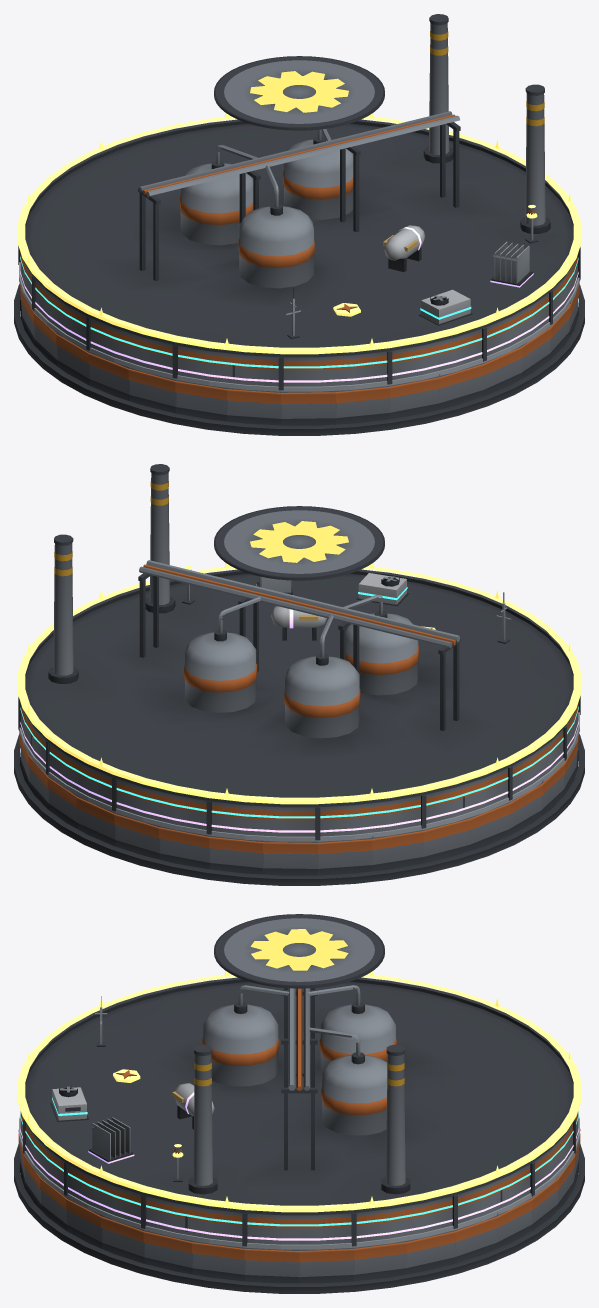
File: polymer_plant_l_far.glb
3 views of the same model, one above another, from view 1: azimuth 30°, elevation 25°; view 2: azimuth 150°, elevation 25°; view 3: azimuth 270°, elevation 25° (orthographic).
Parts seen in each view (by area): view 1: Roof, Base, L5, L4, L2, L3; view 2: Roof, Base, L5, L2, L4, L3; view 3: Roof, Base, L5, L4, L2, L3.
Boxes of the visible parts, x1,y1,x2,y2 form: Roof: [18, 14, 580, 390]; Base: [14, 282, 584, 435]; L5: [17, 113, 581, 354]; L4: [20, 225, 578, 382]; L2: [19, 262, 579, 391]; L3: [20, 256, 578, 368]; Roof: [18, 464, 580, 840]; Base: [14, 732, 584, 885]; L5: [17, 563, 581, 804]; L2: [19, 592, 579, 841]; L4: [20, 576, 578, 832]; L3: [20, 573, 578, 818]; Roof: [20, 914, 578, 1246]; Base: [14, 1129, 584, 1293]; L5: [17, 971, 581, 1212]; L4: [20, 1083, 578, 1240]; L2: [19, 996, 579, 1249]; L3: [20, 1073, 578, 1226].
Bounding box in the file's own units: 18.96 × 8.18 × 18.96.
